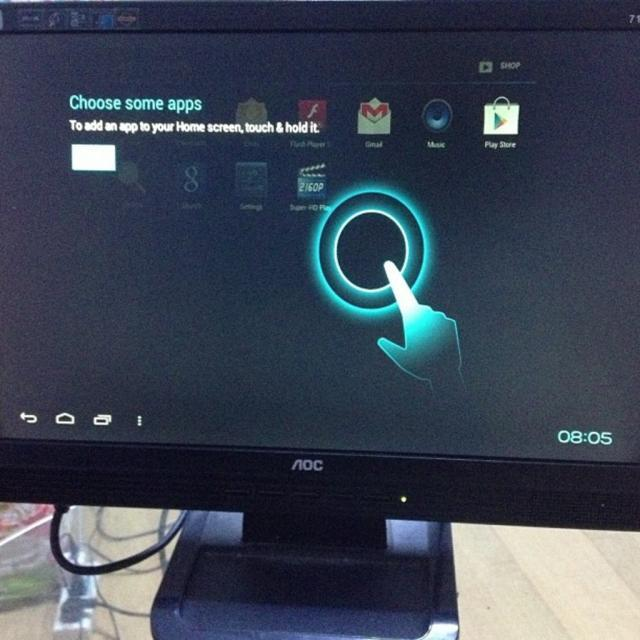others: (1, 1, 640, 535)
